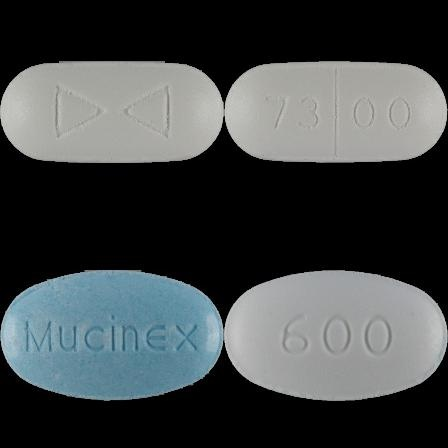21695-868: (0, 0, 224, 224)
